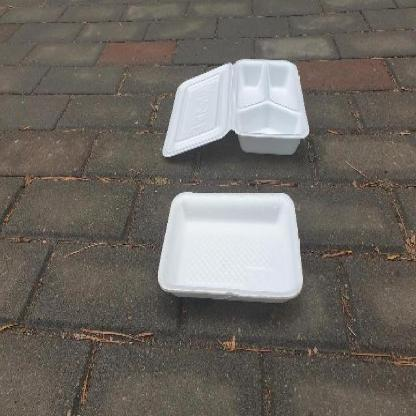Glass Cup: (156, 188, 303, 304), (158, 193, 303, 303), (162, 56, 310, 157), (162, 59, 309, 156)
